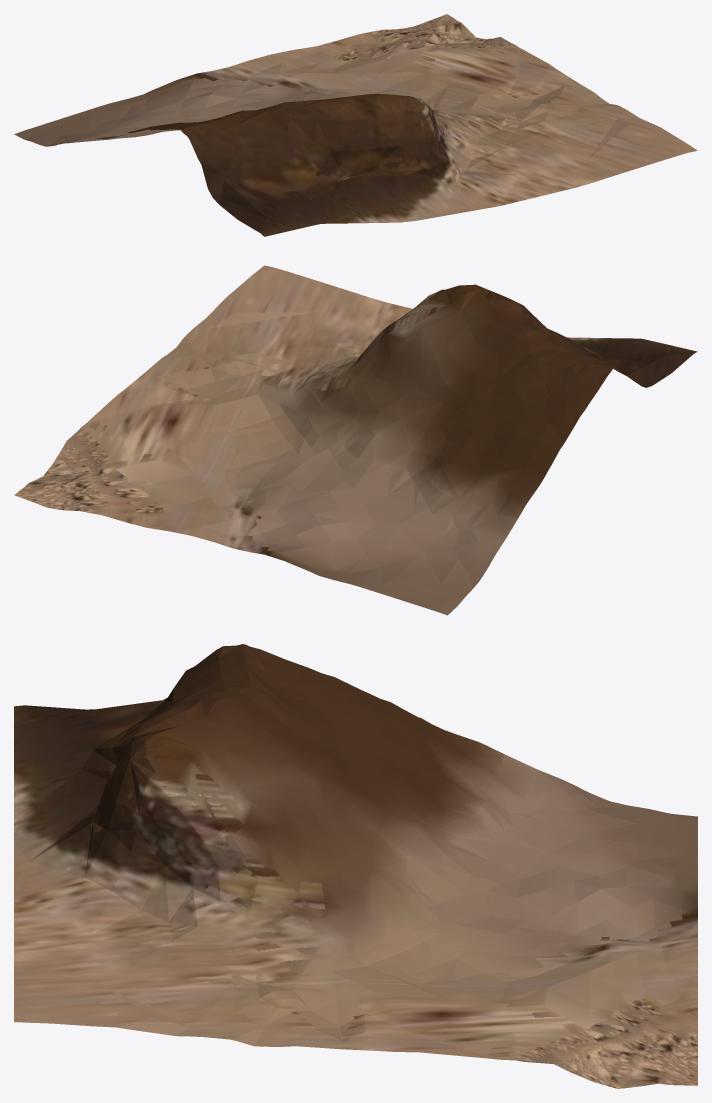
3 views of the same model, one above another, from view 1: azimuth 30°, elevation 25°; view 2: azimuth 150°, elevation 25°; view 3: azimuth 270°, elevation 25° (orthographic). The views are drawn at different scales.
Bounding box in the file's own units: 1.04 × 0.3254 × 1.04.
Materials: 2 (2 with a texture image).
